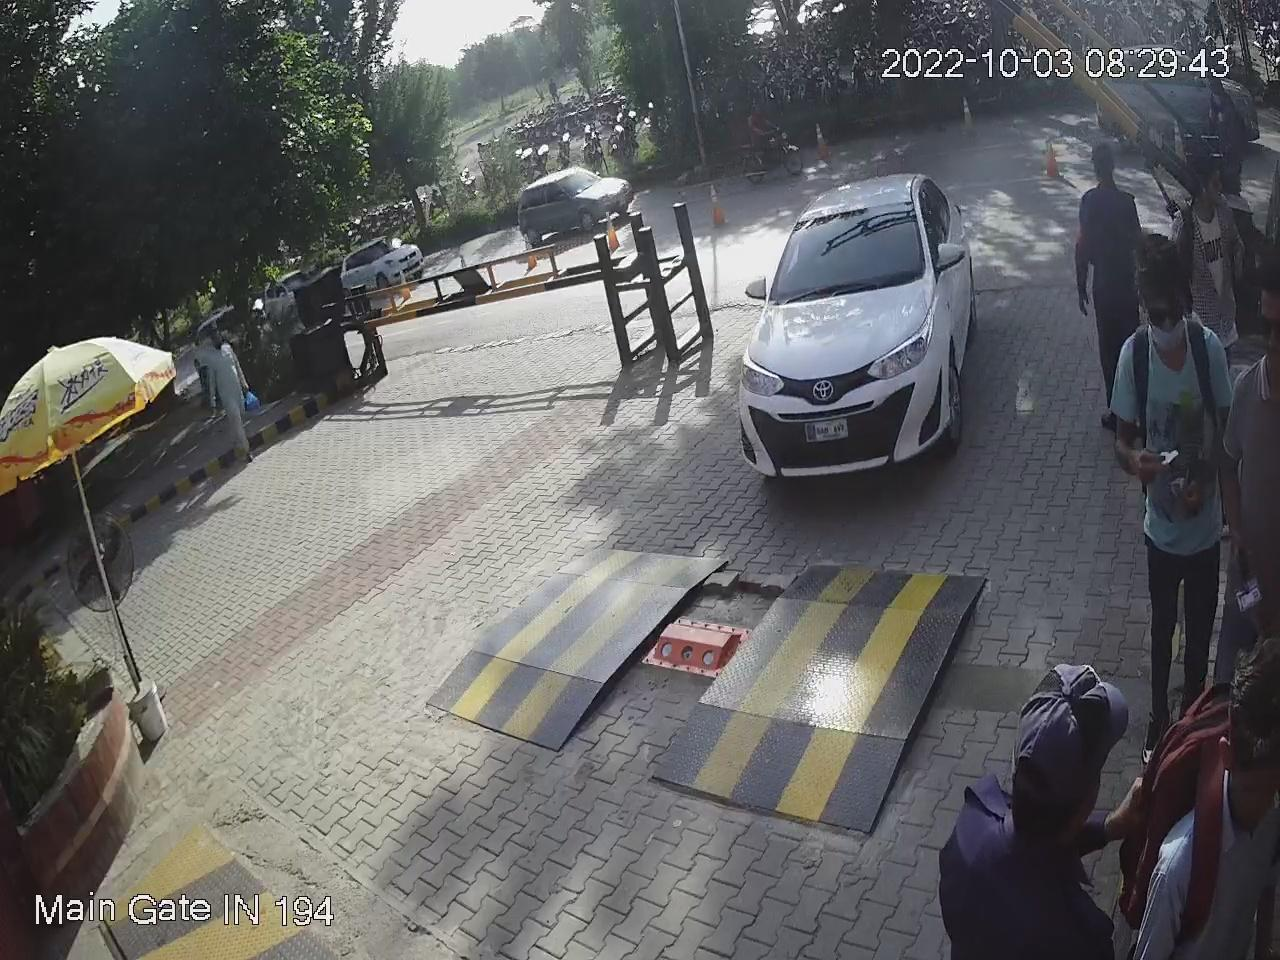windshield: (758, 205, 930, 315)
